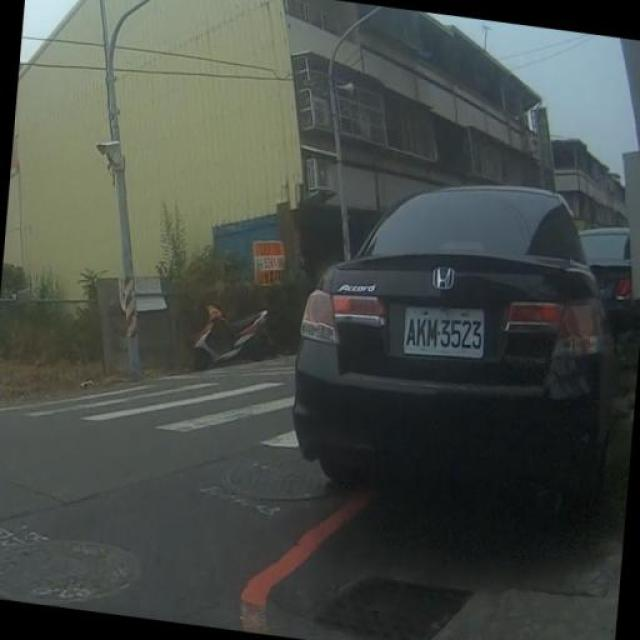illegalparking: (258, 156, 615, 558)
